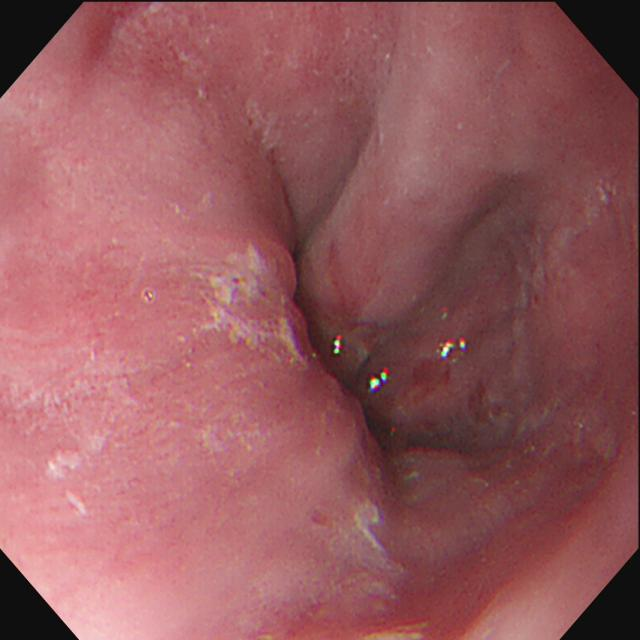J: (17, 342, 142, 483), (510, 178, 618, 341), (191, 246, 309, 366), (246, 96, 287, 150), (353, 501, 389, 560), (65, 492, 88, 517)
U: (437, 339, 466, 361), (369, 369, 391, 394), (333, 334, 344, 356)
